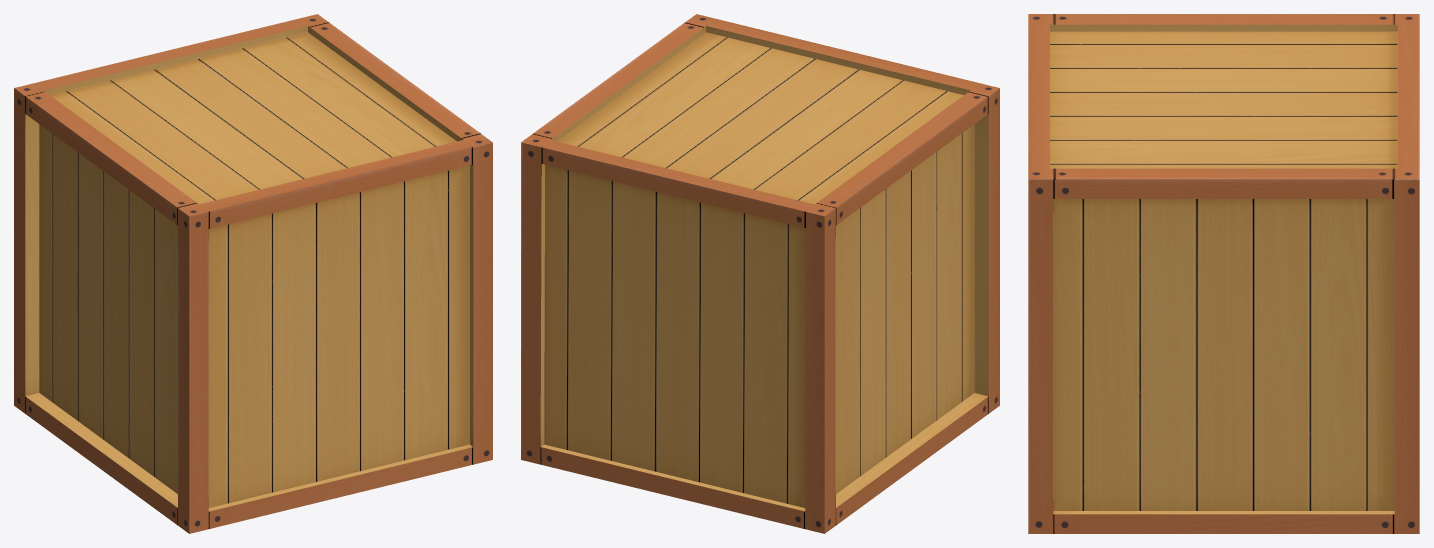
Rendered from Crate Import.fbx.
The picture shows the model from 3 angles, left to right: view 1: azimuth 30°, elevation 25°; view 2: azimuth 150°, elevation 25°; view 3: azimuth 270°, elevation 25°; orthographic projection. The views are drawn at different scales.
Parts seen in each view (by area): view 1: Front, Left, Top; view 2: Back, Left, Top; view 3: Right, Top.
Part boxes in pixels (x1,y1,x2,y2): Front: (189,142,492,533); Left: (14,88,189,533); Top: (14,14,492,216); Back: (521,142,824,533); Left: (824,88,999,533); Top: (521,14,999,216); Right: (1028,179,1419,533); Top: (1028,14,1419,179).
Size of the model in its own units: 4.89 by 4.89 by 4.89.
1 material, 1 textured.
